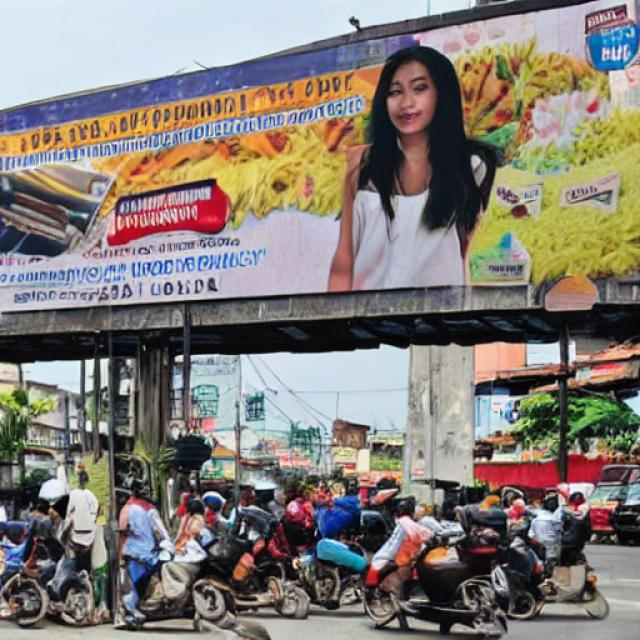Billboard: (0, 4, 640, 321)
